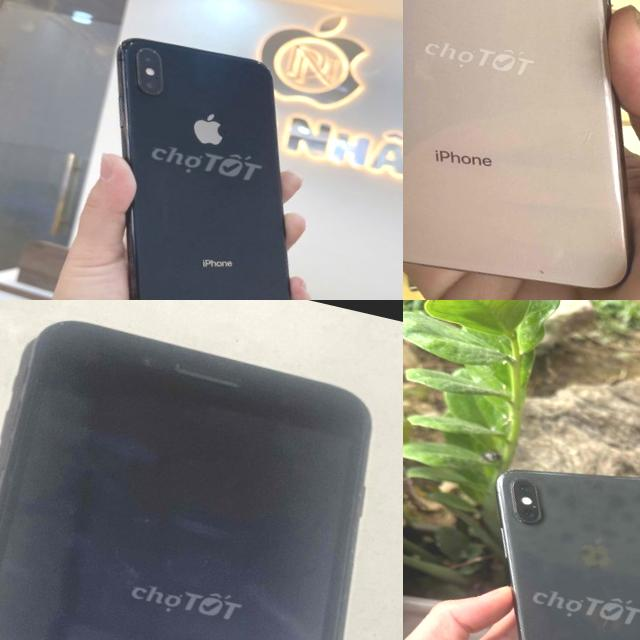gen_7_8: (0, 300, 403, 640)
gen_x_xs: (403, 0, 627, 287), (117, 38, 290, 300), (496, 470, 640, 640)
